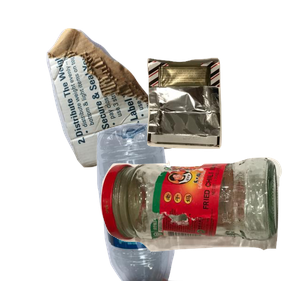cardboard: (44, 26, 209, 186)
glass: (98, 155, 300, 300)
plastic: (94, 120, 267, 300)
trash: (144, 55, 300, 197)
